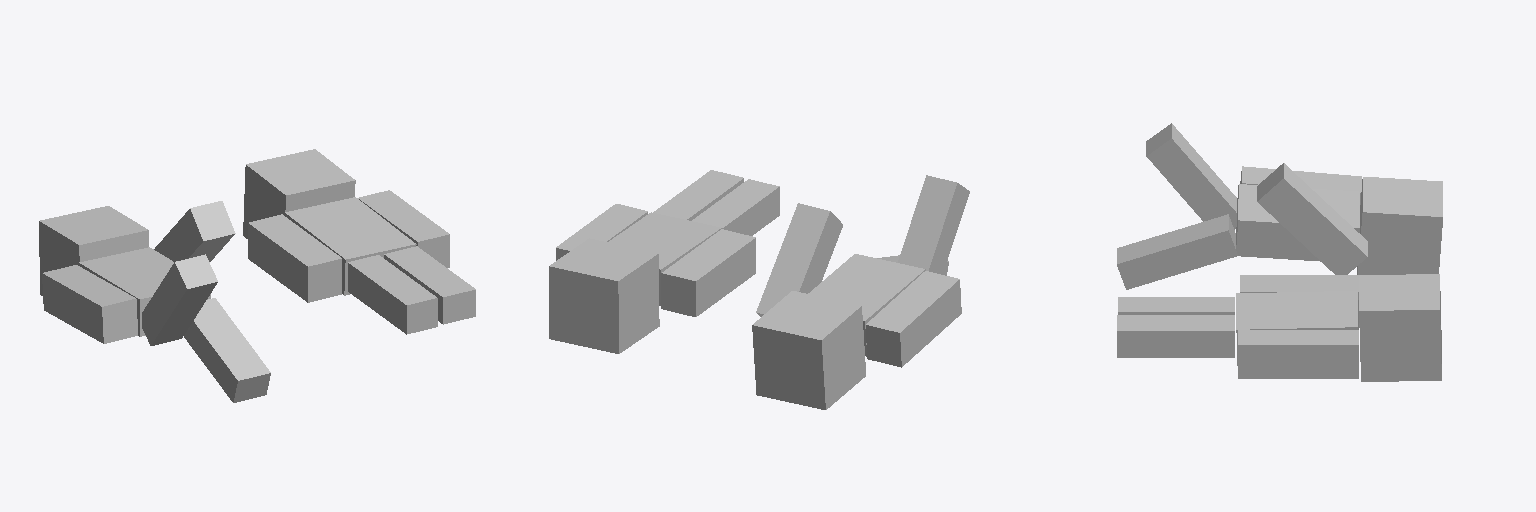
The model's file is steve_000025.obj.
3 renders of one model, left to right at view 1: azimuth 30°, elevation 25°; view 2: azimuth 150°, elevation 25°; view 3: azimuth 270°, elevation 25°, orthographic.
Parts seen in each view (by area): view 1: Cube.001_Cube.002, Cube_Cube.001; view 2: Cube_Cube.001, Cube.001_Cube.002; view 3: Cube_Cube.001, Cube.001_Cube.002.
Part boxes in pixels (bbox=[...]): Cube.001_Cube.002: bbox=[243, 149, 475, 334]; Cube_Cube.001: bbox=[39, 201, 270, 402]; Cube_Cube.001: bbox=[752, 175, 969, 409]; Cube.001_Cube.002: bbox=[549, 170, 779, 353]; Cube_Cube.001: bbox=[1117, 123, 1442, 289]; Cube.001_Cube.002: bbox=[1117, 274, 1441, 381].
Size of the model in its own units: 6.55 by 2.42 by 5.36.